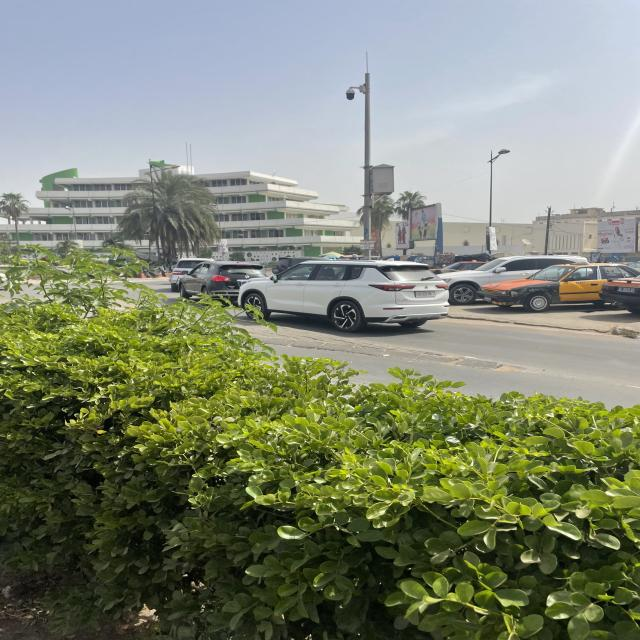particulier: (240, 259, 451, 335), (434, 255, 595, 306), (179, 261, 270, 306), (172, 259, 215, 293)
taxi: (480, 260, 640, 311), (599, 267, 640, 314)
